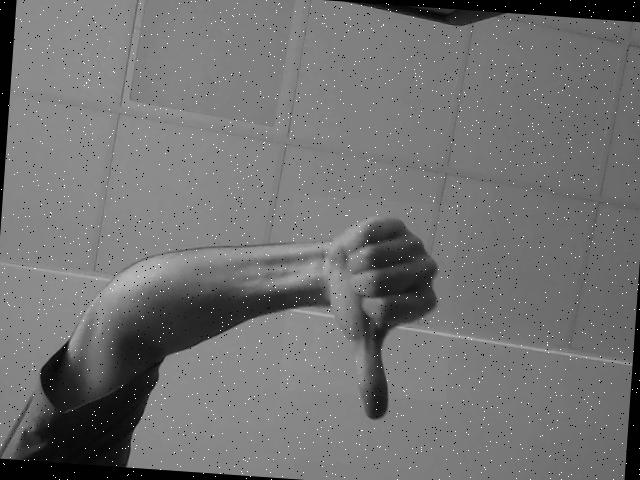bad: (279, 194, 459, 401)
